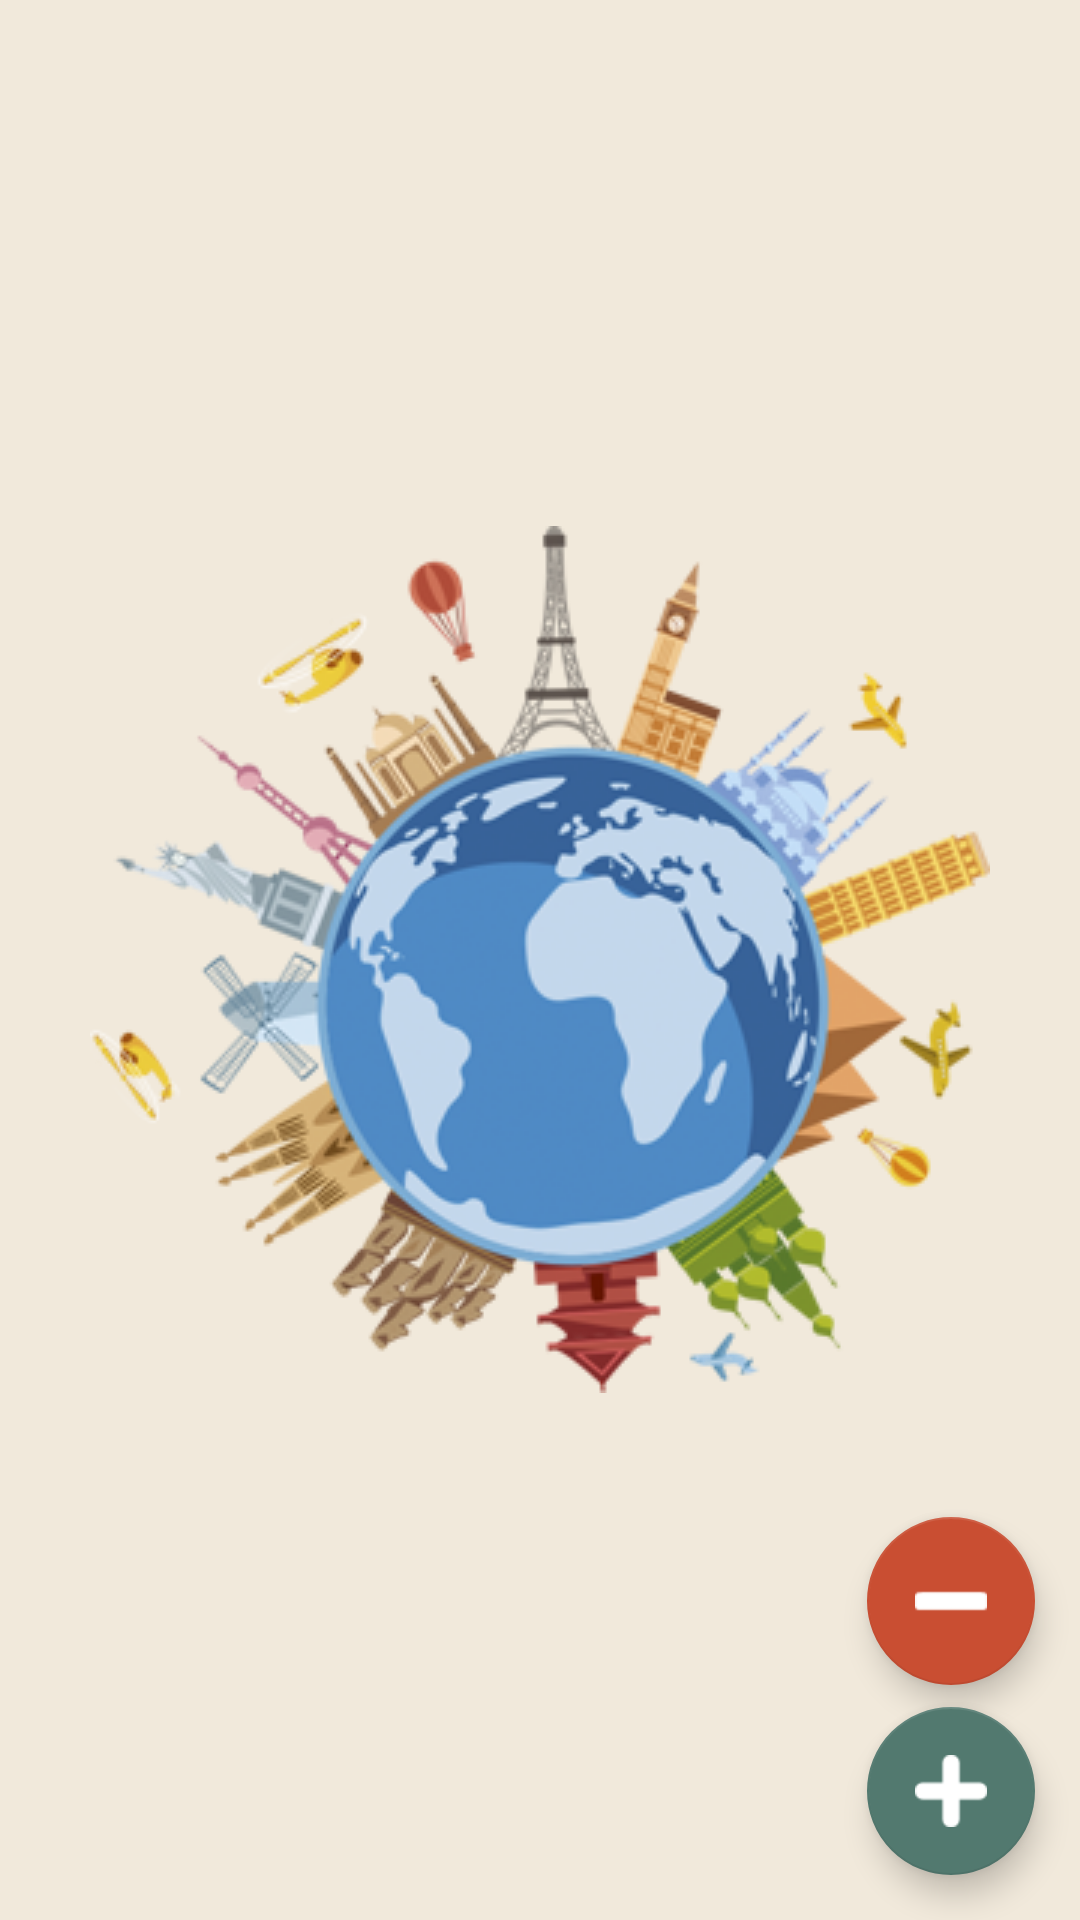

Icons on this 1080*1920 Android screen, each with its box as box(x1, y1, x2, y2):
minus sign: box(867, 1517, 1035, 1685)
plus sign: box(867, 1707, 1035, 1875)
